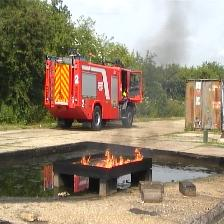fire: (96, 148, 144, 169), (80, 153, 91, 166)
